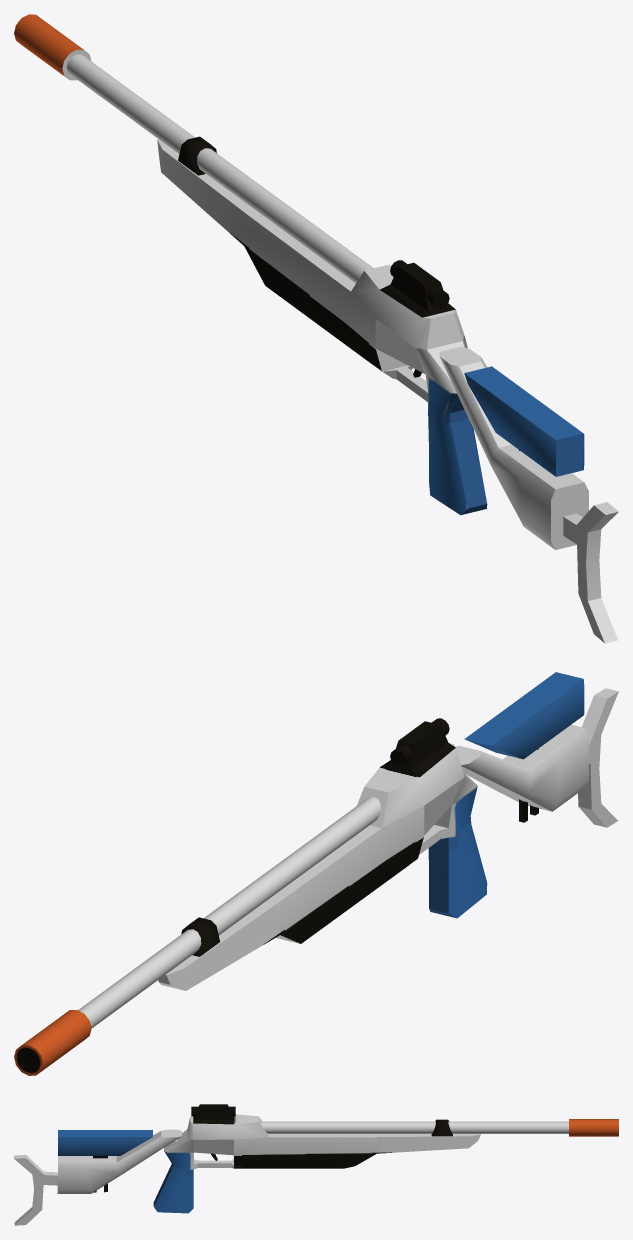
Rendered from bbgun.fbx.
3 renders of one model, top to bottom at view 1: azimuth 30°, elevation 25°; view 2: azimuth 150°, elevation 25°; view 3: azimuth 270°, elevation 25°, orthographic. The views are drawn at different scales.
Parts seen in each view (by area): view 1: polySurface6; view 2: polySurface6; view 3: polySurface6.
Part boxes in pixels (<box>): polySurface6: <box>14,14,618,643</box>; polySurface6: <box>14,672,618,1075</box>; polySurface6: <box>14,1104,618,1225</box>.
Size of the model in its own units: 1.42 by 6.12 by 28.51.
Materials: 1 (1 with a texture image).
